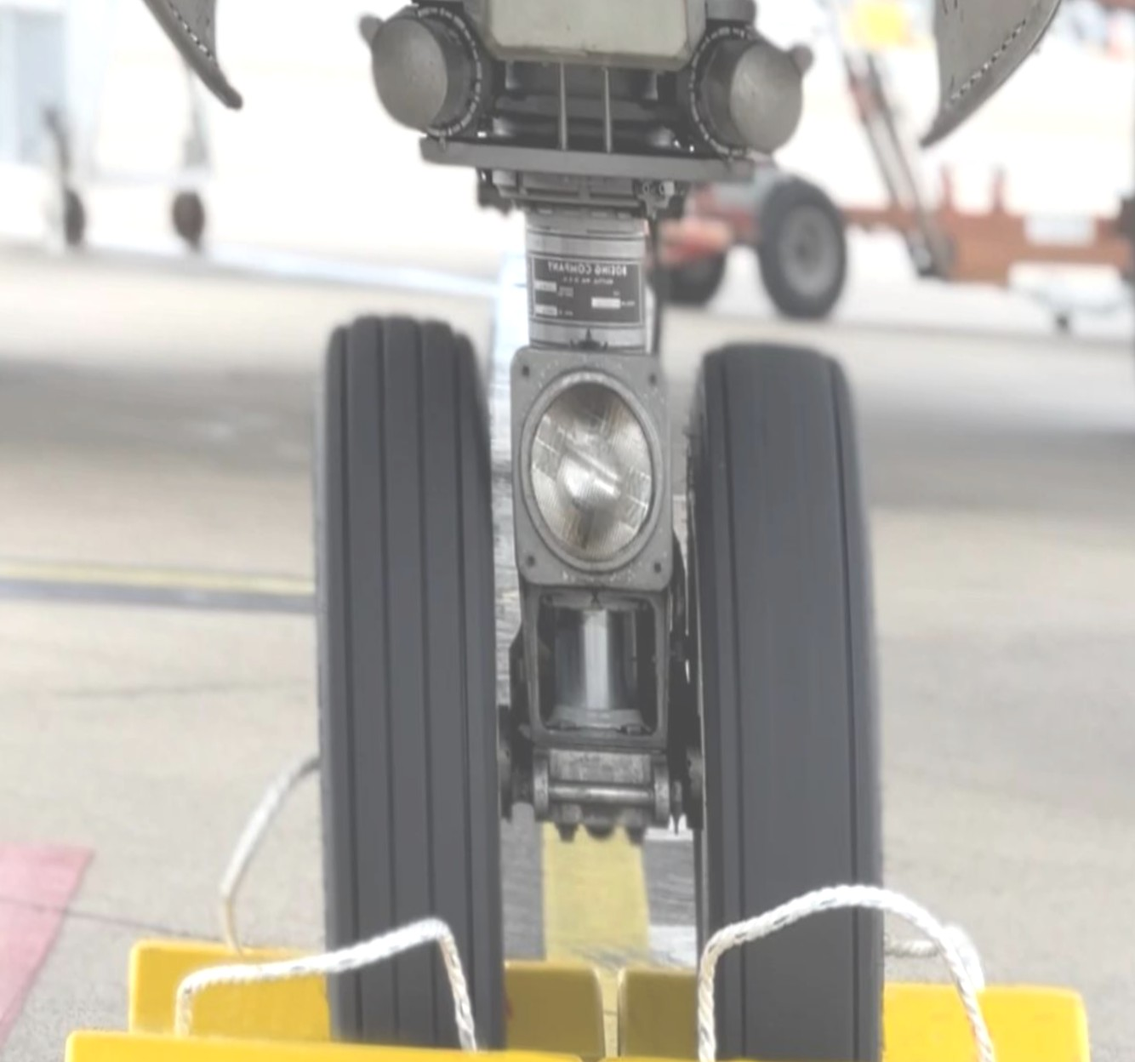chock: (117, 906, 607, 1062), (608, 926, 1097, 1062)
wheel: (678, 320, 890, 1062), (312, 297, 514, 1062), (760, 172, 850, 322), (659, 232, 727, 311)
